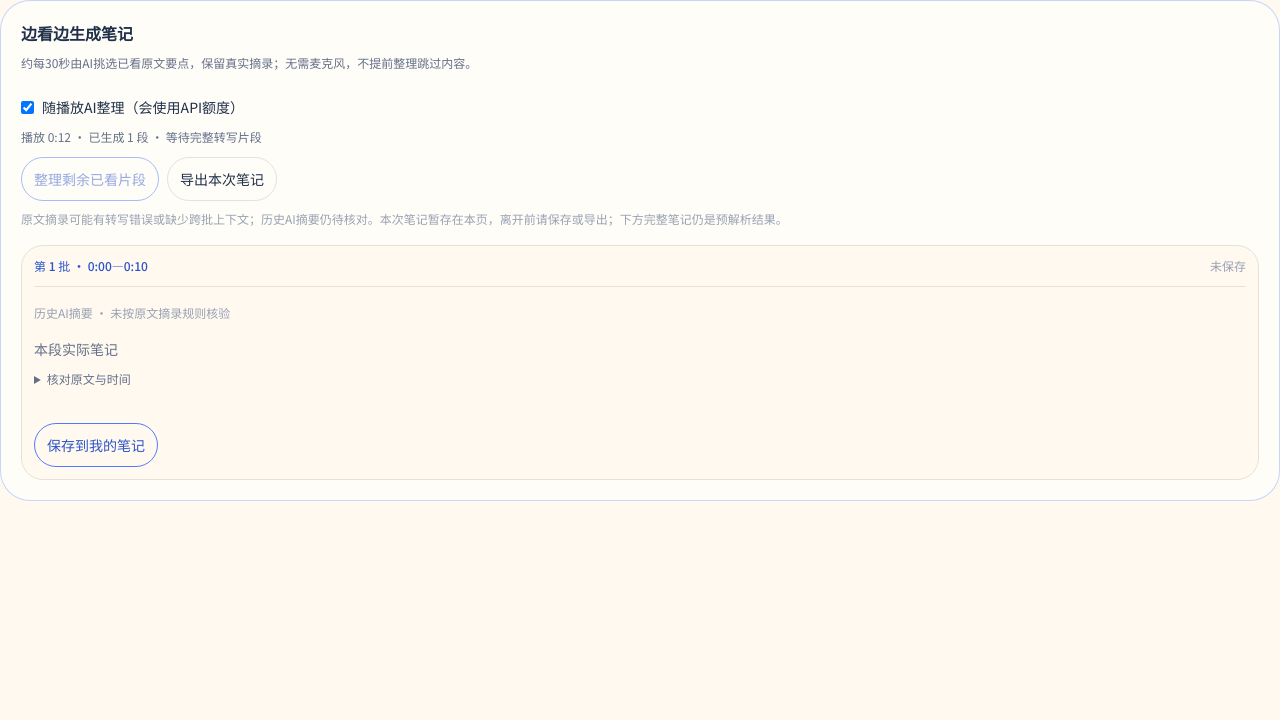
Test: video watched notes › preserves note after failed save without auto retry
The image size is (1280, 720).
Expected: the text "本段实际笔记" is shown, [34, 339, 118, 359]
What coordinates should you click on to do the following:
click the button "保存到我的笔记"
I would click on:
 (96, 445)
Its box is [34, 423, 158, 467].
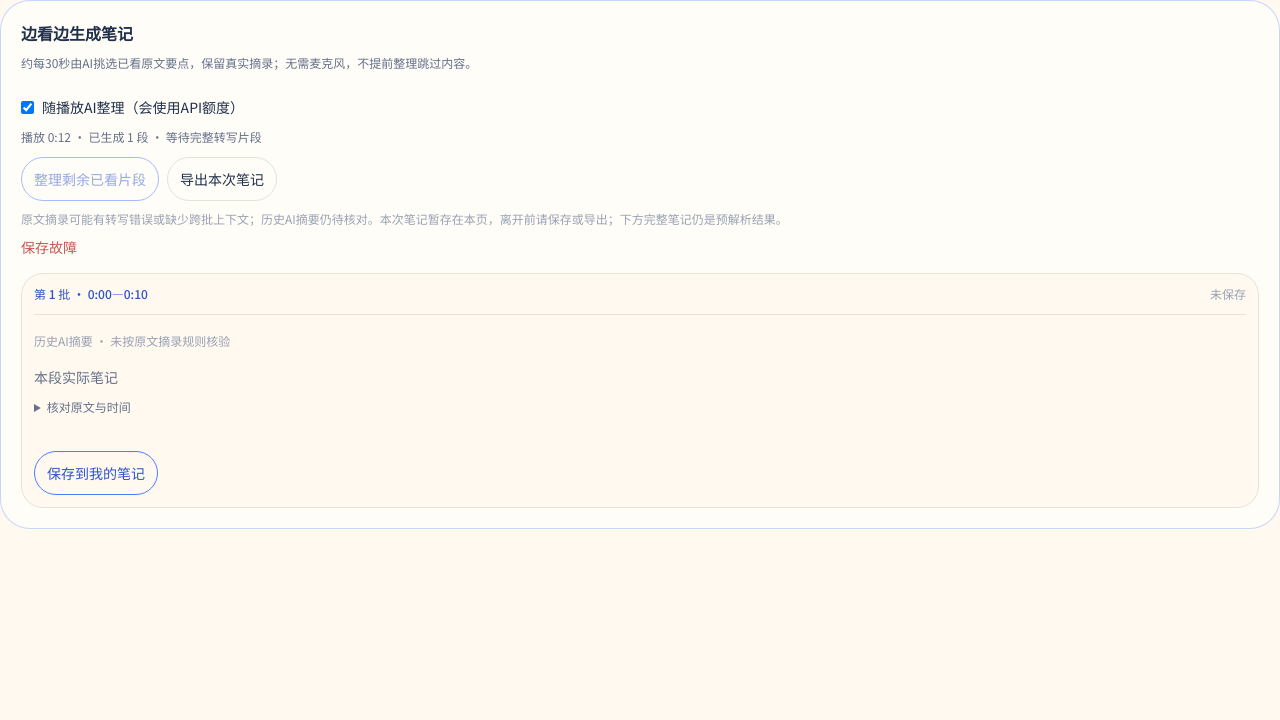
Expected: the text "本段实际笔记" is shown, [34, 367, 118, 387]
Expected: the message "保存故障" is shown, [21, 237, 77, 257]
